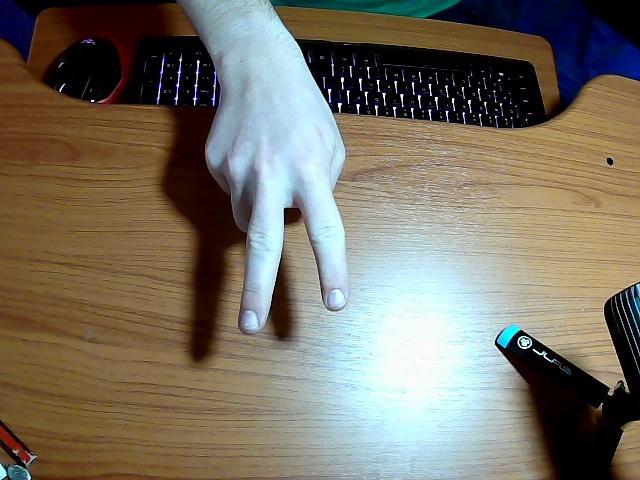scissors: (180, 0, 348, 334)
